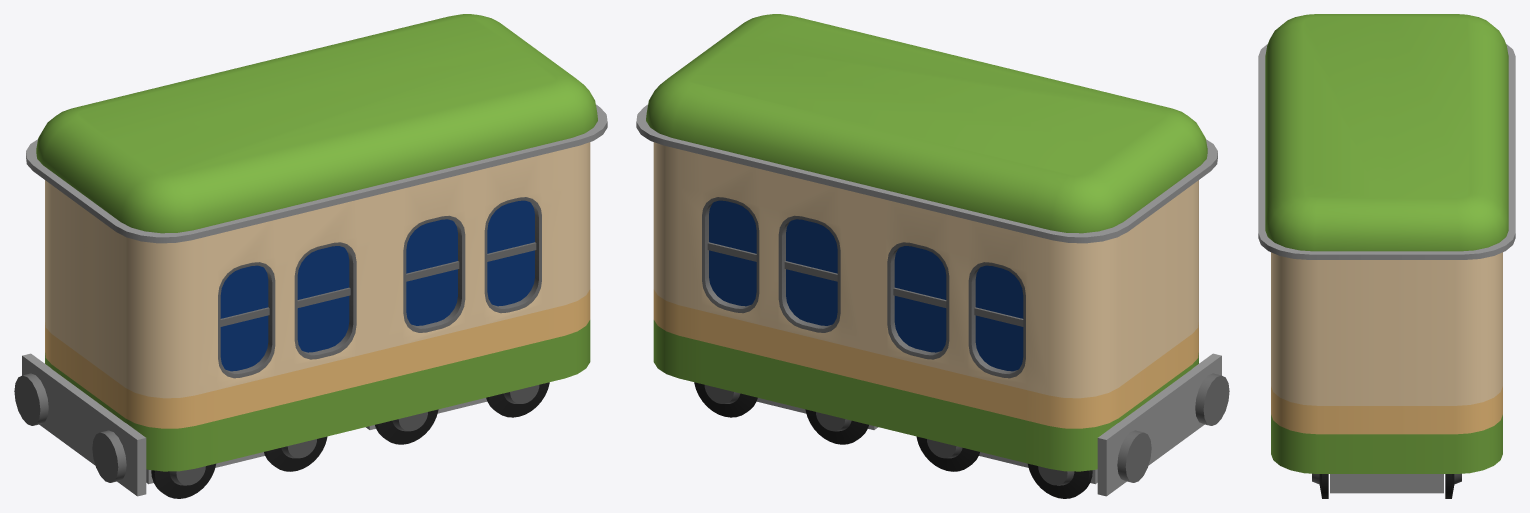
File: railway_car.gltf
3 renders of one model, left to right at view 1: azimuth 30°, elevation 25°; view 2: azimuth 150°, elevation 25°; view 3: azimuth 270°, elevation 25°, orthographic. The views are drawn at different scales.
Parts seen in each view (by area): view 1: Cube.555, Cube.557, Cylinder.433; view 2: Cube.555, Cube.557, Cylinder.433; view 3: Cube.555, Cube.556, Cube.557.
Part boxes in pixels (x1,y1,x2,y2): Cube.555: (22,14,607,496); Cube.557: (151,382,549,498); Cylinder.433: (14,373,126,482); Cube.555: (636,14,1221,496); Cube.557: (694,382,1092,498); Cylinder.433: (1117,373,1229,482); Cube.555: (1258,14,1515,473); Cube.556: (1330,474,1443,493); Cube.557: (1312,473,1461,498).
Bounding box in the file's own units: 2.19 × 1.42 × 1.06.
Materials: 1 (1 with a texture image).
